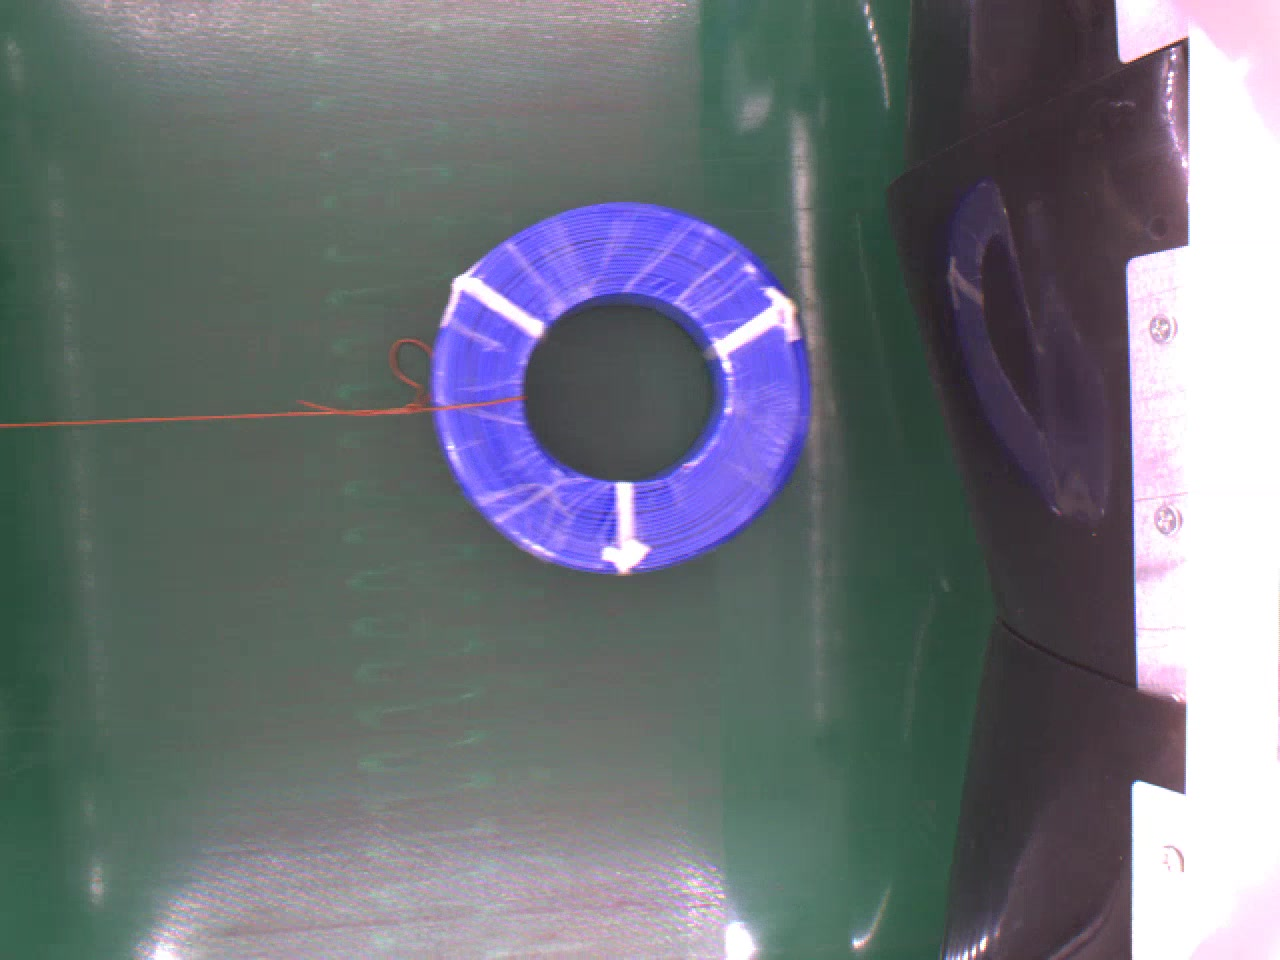blue: (431, 198, 806, 570)
